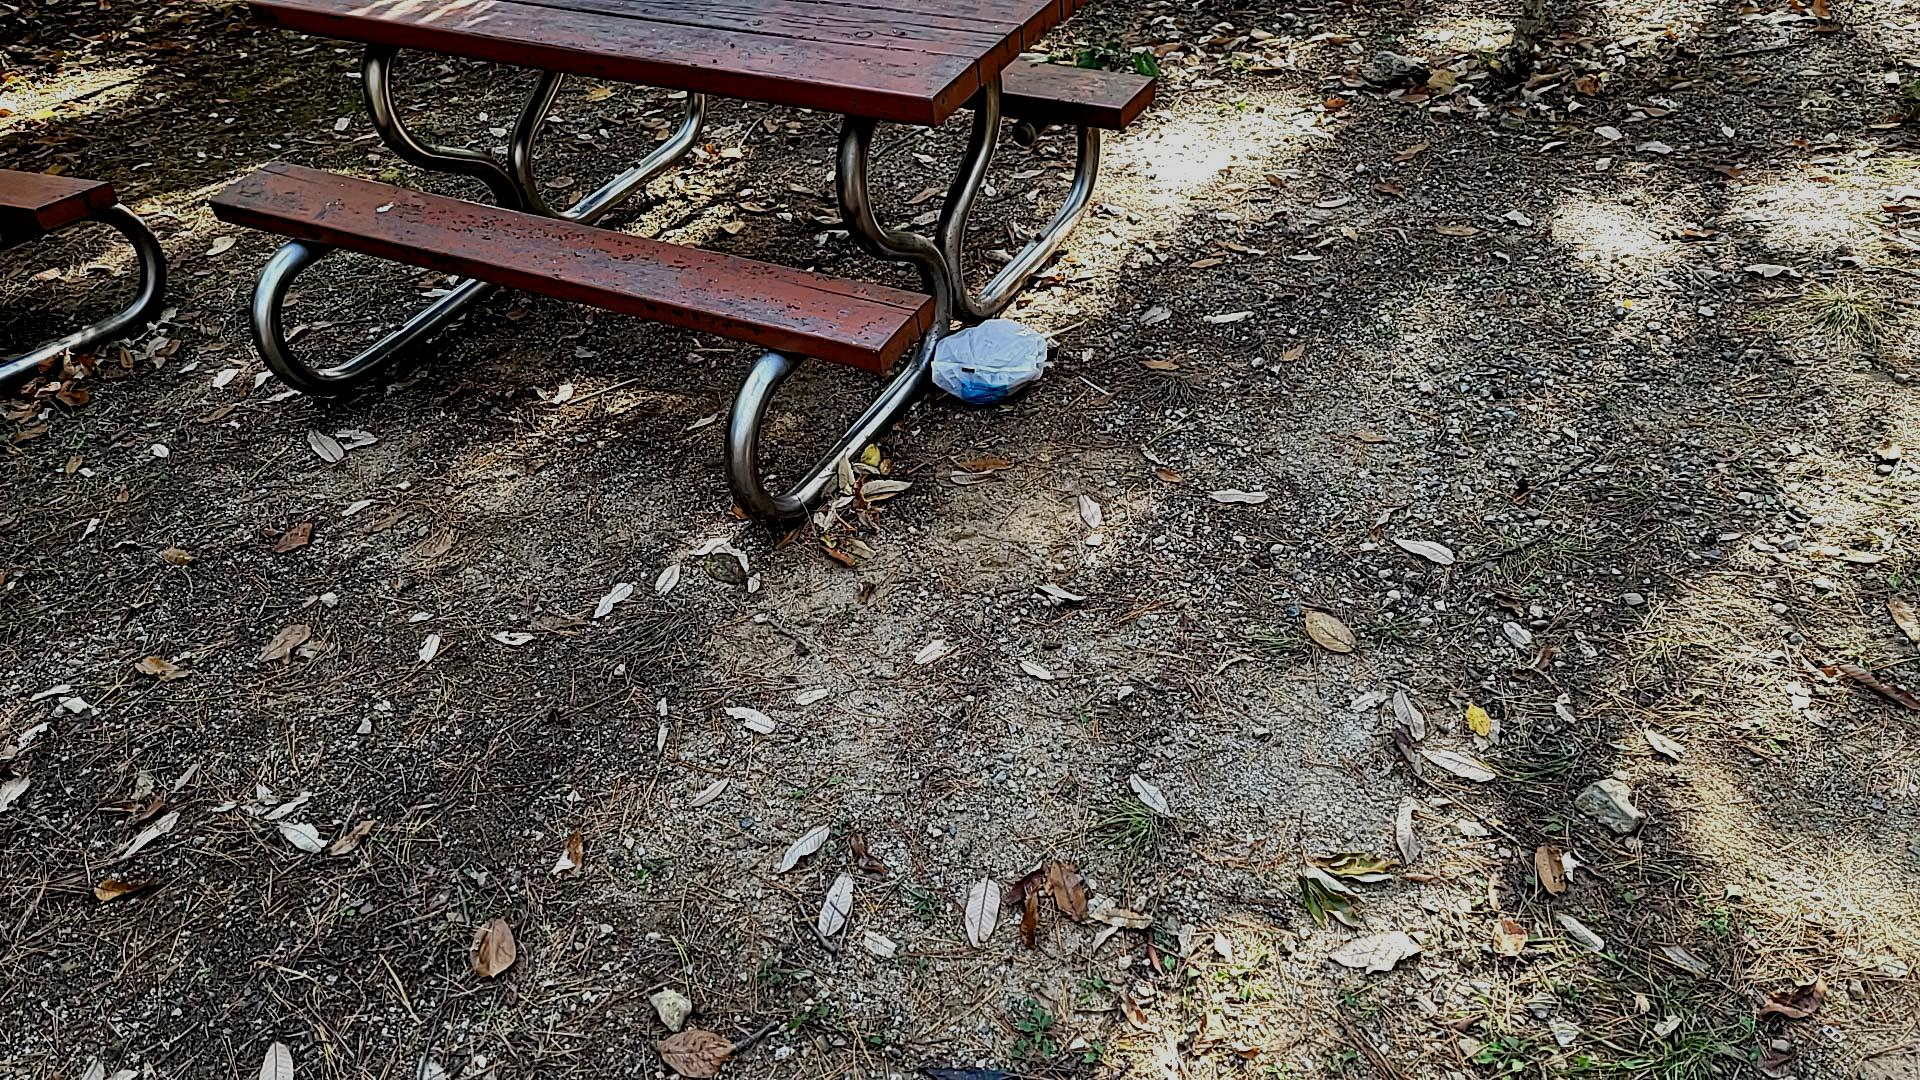white_bag: (924, 313, 1058, 407)
